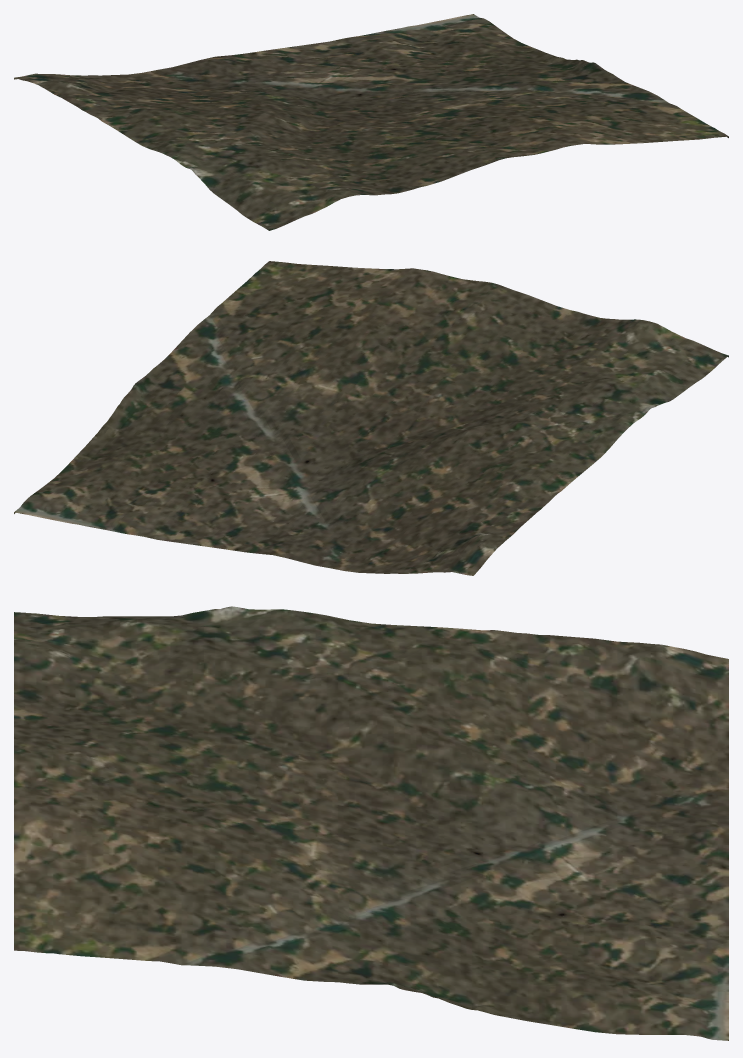
The picture shows the model from 3 angles, top to bottom: view 1: azimuth 30°, elevation 25°; view 2: azimuth 150°, elevation 25°; view 3: azimuth 270°, elevation 25°; orthographic projection. The views are drawn at different scales.
Bounding box in the file's own units: 250 × 51.45 × 241.
Materials: 1 (1 with a texture image).
